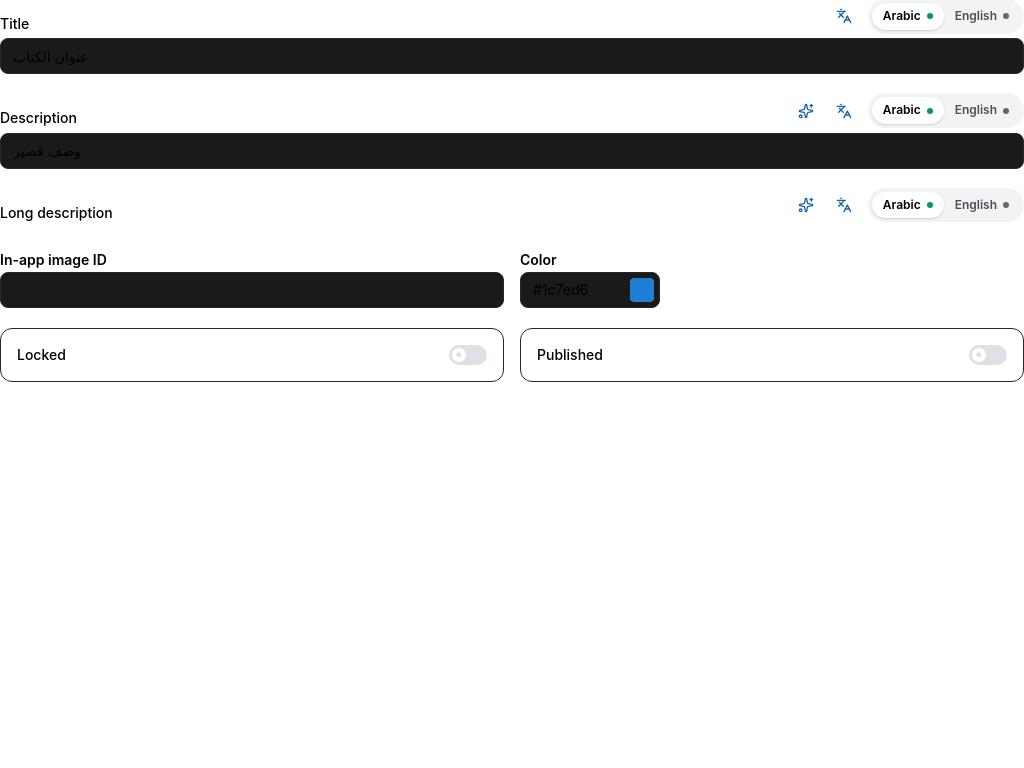
BookForm › Book field AI actions (ANA-100) › sends bookTitle/bookLongDescription context (no bookId) for Description AI Assistance, and applies the result
The image size is (1024, 768).
Click the button named "AI Assistance for Description". click: x=806, y=111
box: [792,97,820,125]
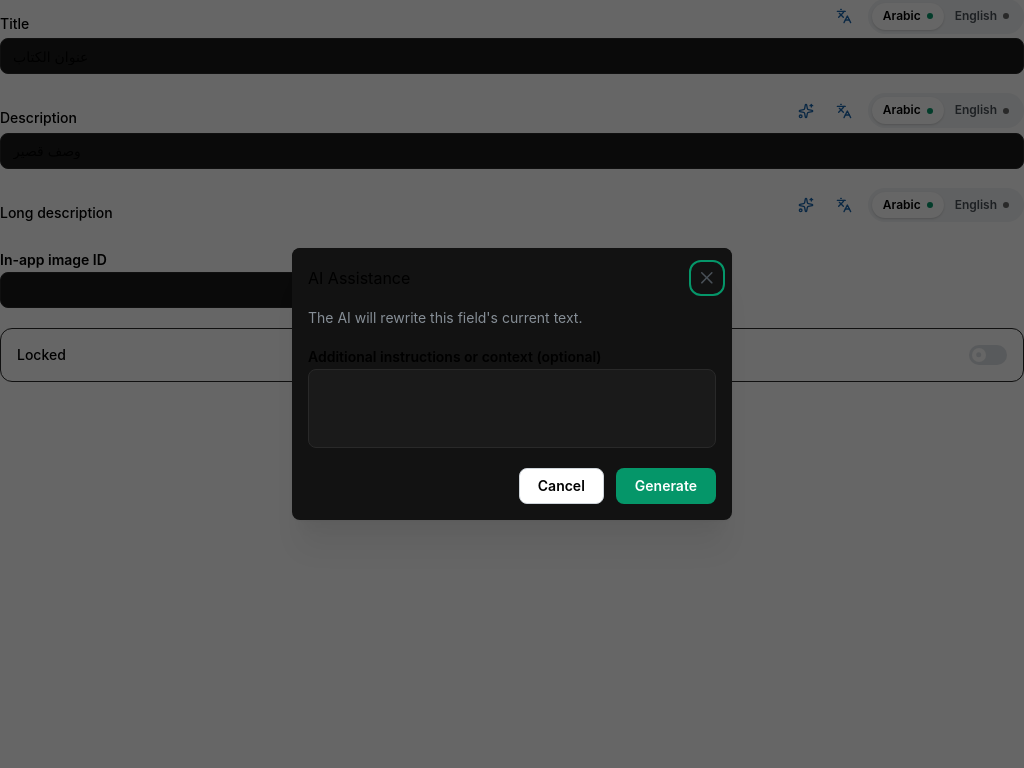
Click the button "Generate". click: x=666, y=486
box: [616,468,716,504]
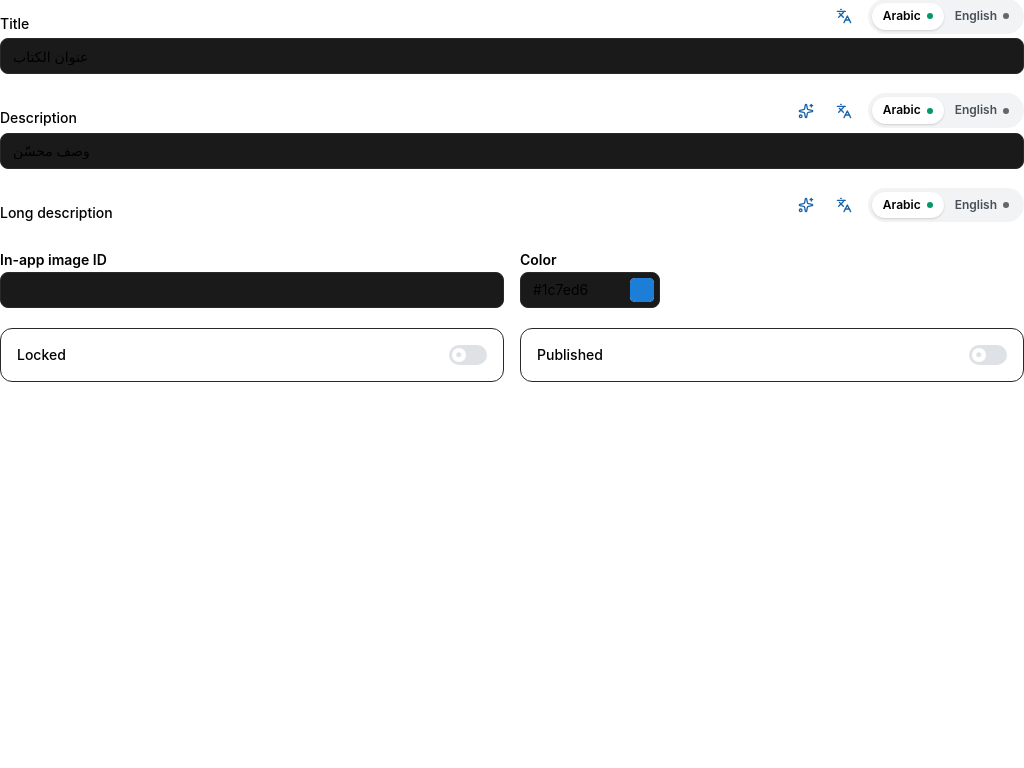
Check: the field showing "وصف محسّن" is shown, box [0,133,1023,169]
